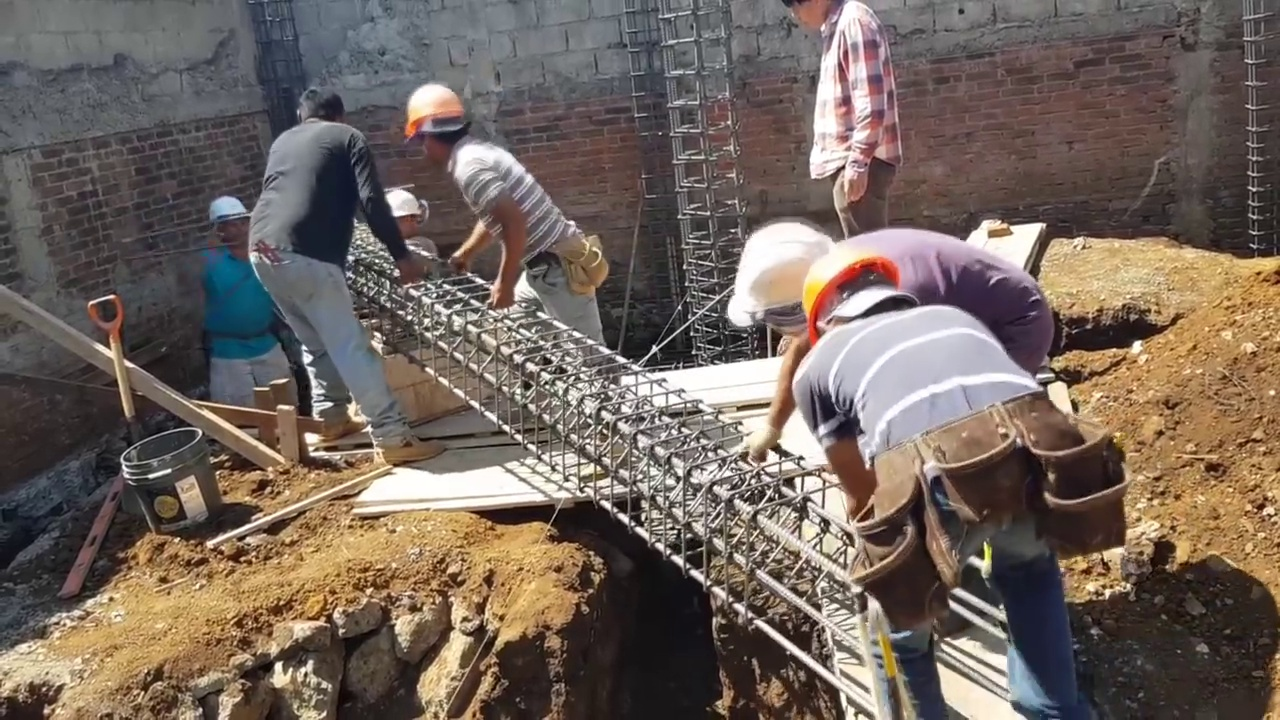helmet: (793, 245, 905, 341), (727, 222, 819, 323), (398, 82, 463, 134), (203, 193, 252, 229), (383, 190, 422, 216)
helmet-off: (773, 0, 843, 40), (291, 82, 338, 123)
helmet-on: (790, 242, 926, 345), (723, 216, 831, 342), (399, 82, 481, 172), (203, 195, 254, 259), (383, 189, 425, 239)
person: (786, 245, 1135, 712), (720, 217, 1055, 465), (256, 71, 421, 463), (399, 82, 609, 366), (778, 0, 900, 243), (199, 191, 301, 412), (382, 189, 446, 275)
